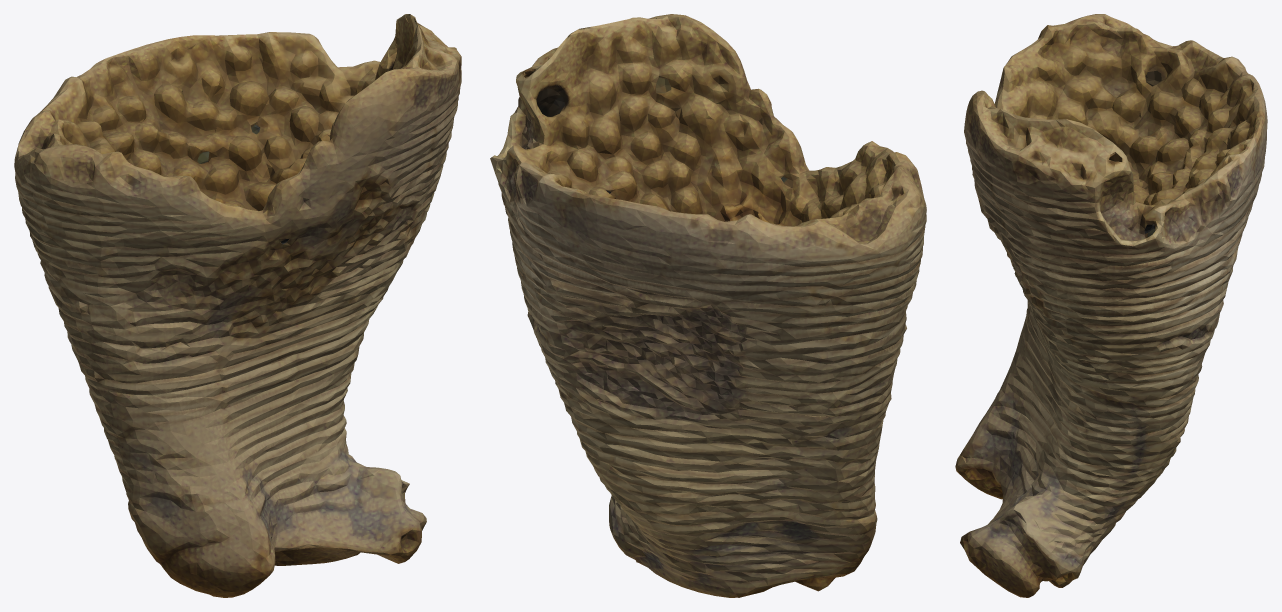
3 views of the same model, side by side, from view 1: azimuth 30°, elevation 25°; view 2: azimuth 150°, elevation 25°; view 3: azimuth 270°, elevation 25° (orthographic). The views are drawn at different scales.
Parts seen in each view (by area): view 1: world; view 2: world; view 3: world.
Boxes of the visible parts, <box> form: world: <box>14,14,461,597</box>; world: <box>490,14,926,597</box>; world: <box>955,14,1267,597</box>.
Size of the model in its own units: 0.0823 by 0.1005 by 0.0566.
Materials: 1 (1 with a texture image).
